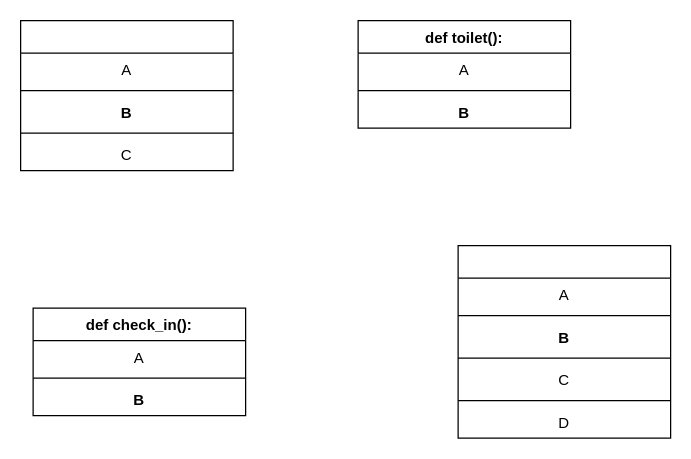
Image size: 691x459. Some labels were removed from this diagram. Each missing label, with the box of its shape:
def intro():: (19, 19, 233, 171)
def security():: (457, 244, 671, 438)
